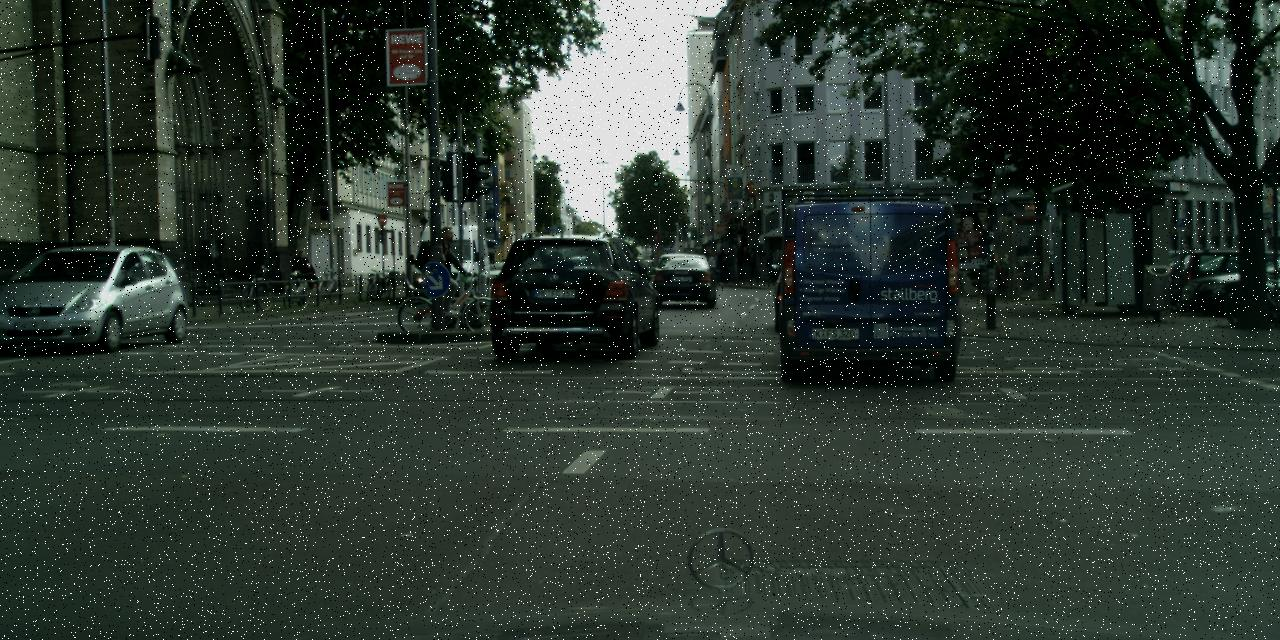ped: (425, 226, 463, 320), (290, 248, 312, 304), (714, 247, 729, 282), (732, 243, 747, 278), (738, 246, 752, 280), (723, 248, 735, 282), (707, 252, 719, 283), (746, 248, 758, 278)
